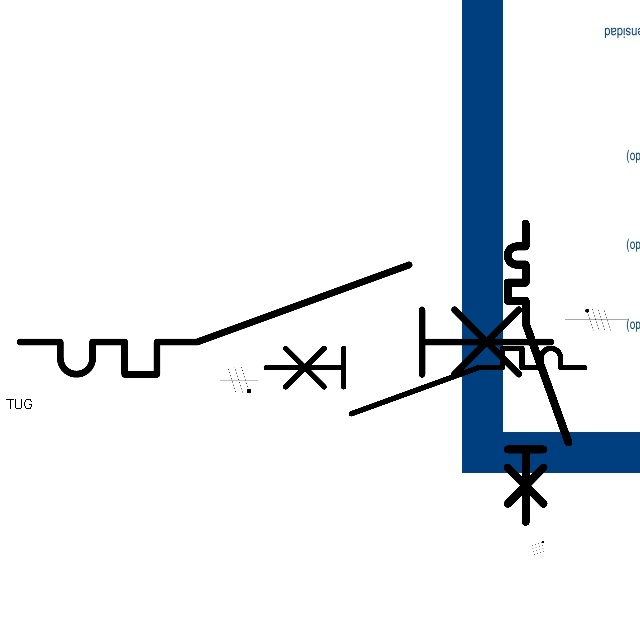interruptor_termomagnetico: (6, 251, 564, 388), (257, 340, 592, 422), (500, 216, 576, 529)
